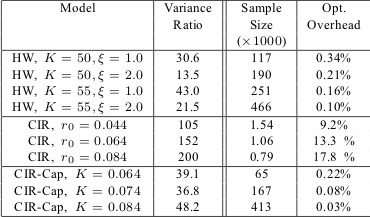column: (12, 2, 144, 217), (307, 1, 362, 217), (236, 1, 287, 217), (164, 2, 213, 217)
row: (1, 36, 370, 48), (1, 101, 370, 113), (1, 2, 369, 14), (1, 85, 369, 97), (1, 168, 369, 180), (1, 70, 370, 81), (1, 119, 370, 130), (1, 135, 370, 146), (1, 151, 370, 162), (1, 52, 370, 62), (1, 201, 370, 211), (1, 20, 370, 29), (1, 186, 369, 195)
